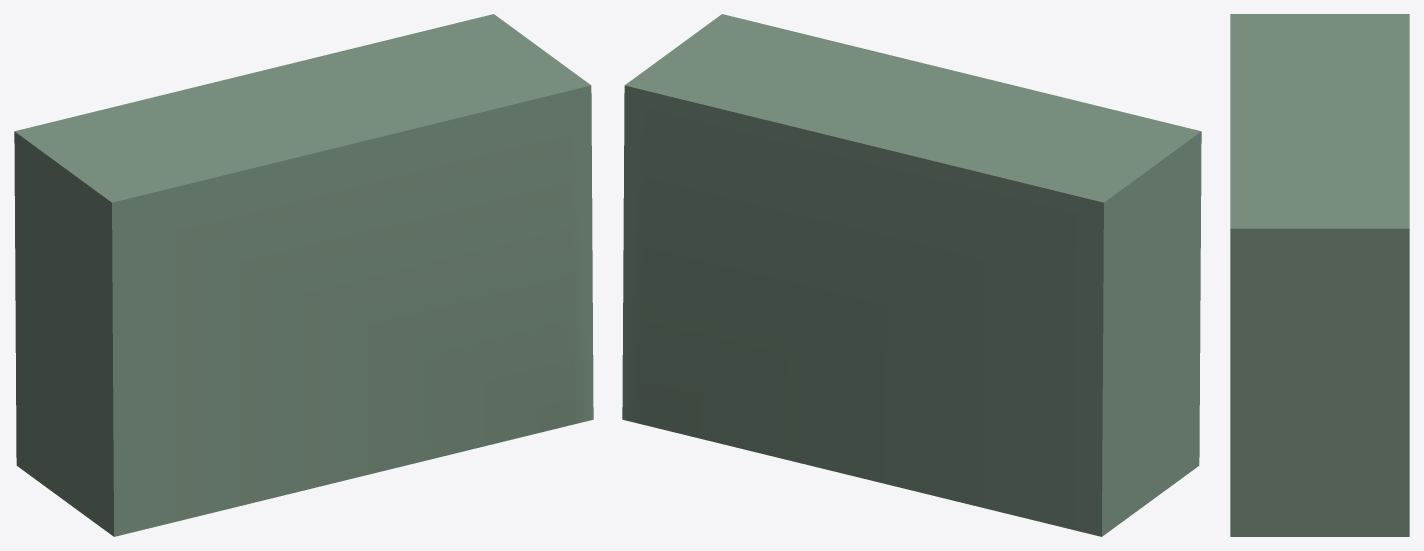
File: MSH_QuestObject_cabinet_09.fbx
The picture shows the model from 3 angles, left to right: view 1: azimuth 30°, elevation 25°; view 2: azimuth 150°, elevation 25°; view 3: azimuth 270°, elevation 25°; orthographic projection. The views are drawn at different scales.
Visible parts, largest first — view 1: MSH_QuestObject_cabinet_09; view 2: MSH_QuestObject_cabinet_09; view 3: MSH_QuestObject_cabinet_09.
Part boxes in pixels (x1,y1,x2,y2): MSH_QuestObject_cabinet_09: (14, 14, 593, 536); MSH_QuestObject_cabinet_09: (622, 14, 1201, 536); MSH_QuestObject_cabinet_09: (1230, 14, 1409, 536).
Size of the model in its own units: 2.18 by 1.45 by 0.7666.
